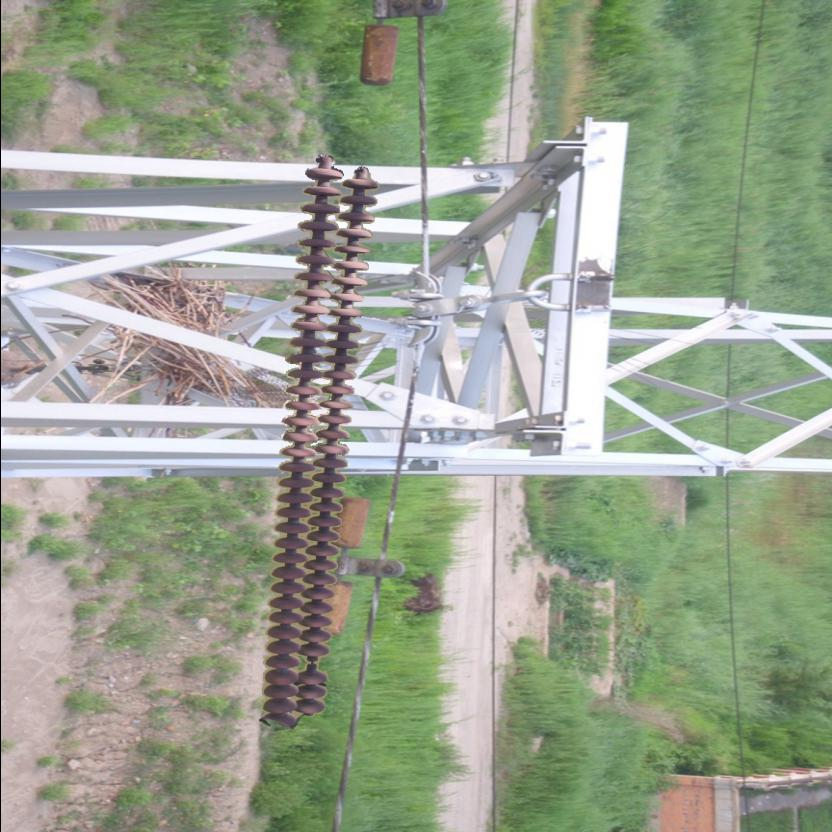defect: (295, 644, 333, 688)
